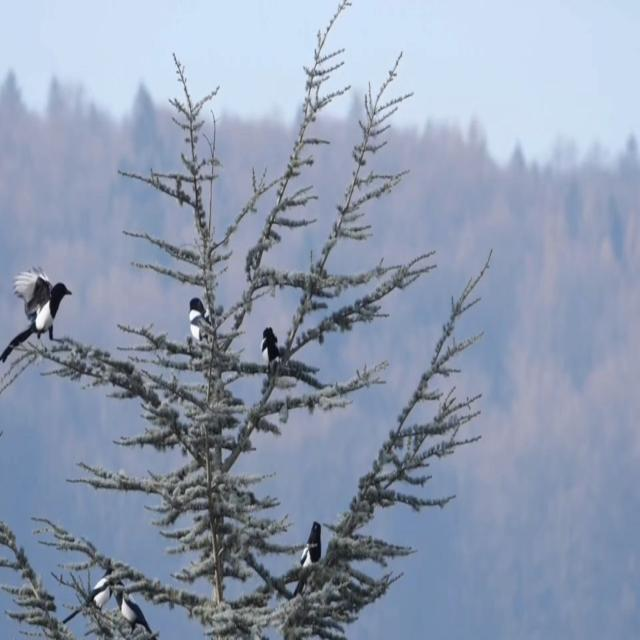bird: (0, 253, 84, 384), (177, 283, 234, 377), (55, 550, 119, 629), (285, 507, 331, 612), (256, 308, 304, 406), (104, 567, 165, 640)
